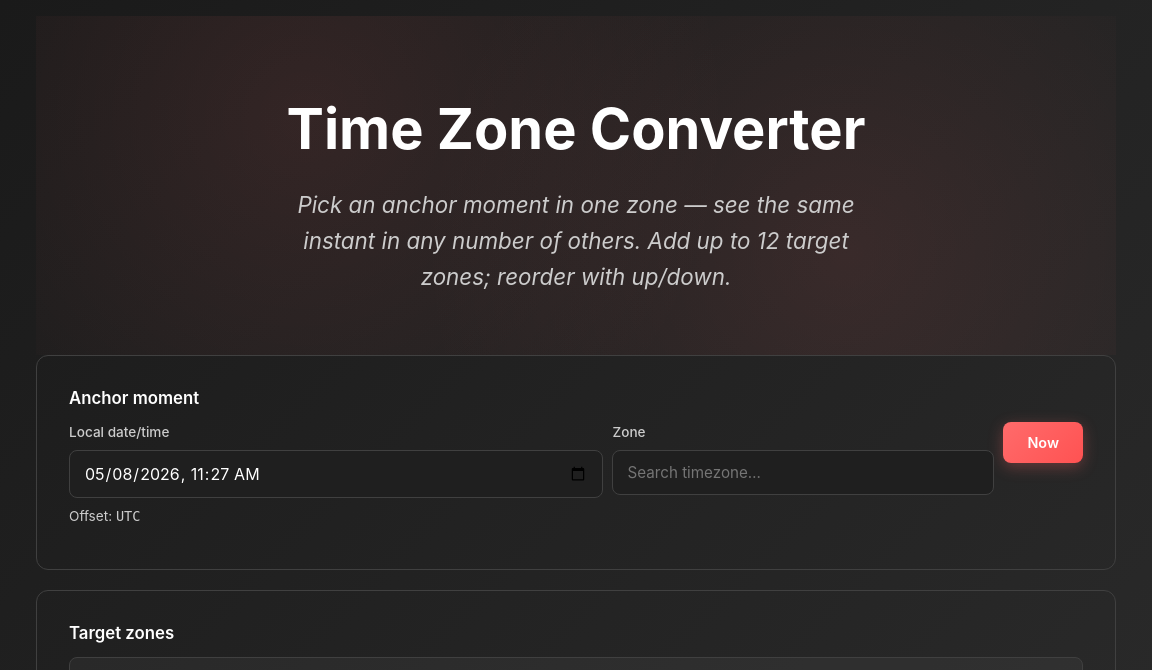
Test: <TimezoneConverter /> › Now sets the anchor input to the current moment
Clear the field labelled "Local date/time" at (336, 474), box [69,450,603,498]
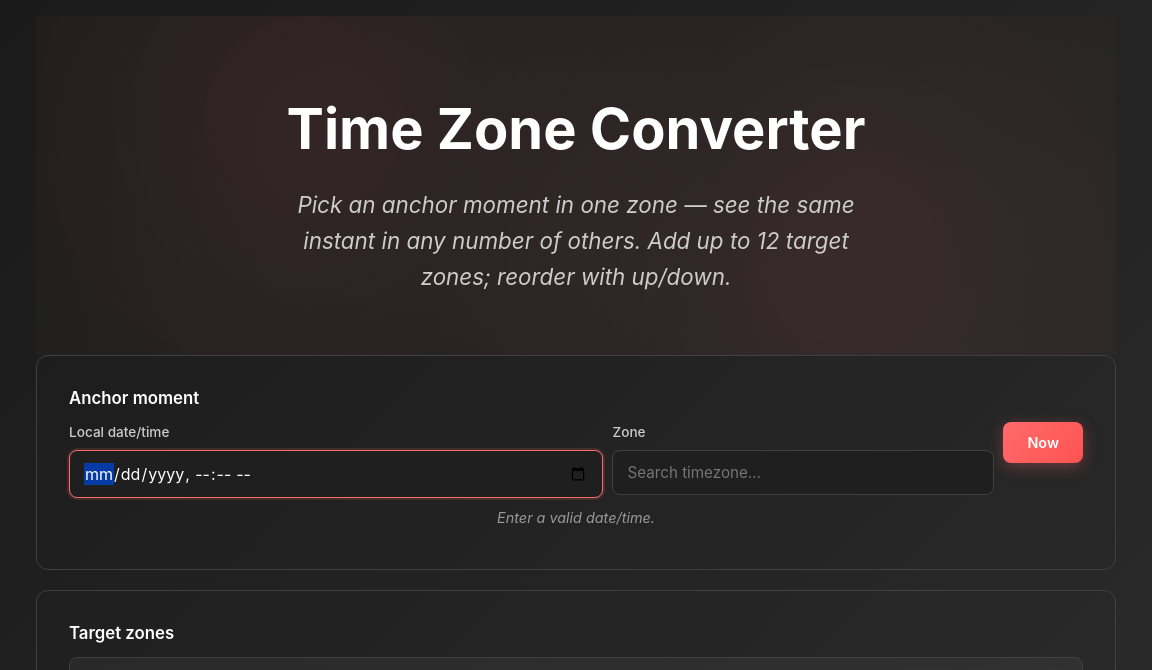
Click the button "Now" at (1043, 442), box [1003,422,1083,462]
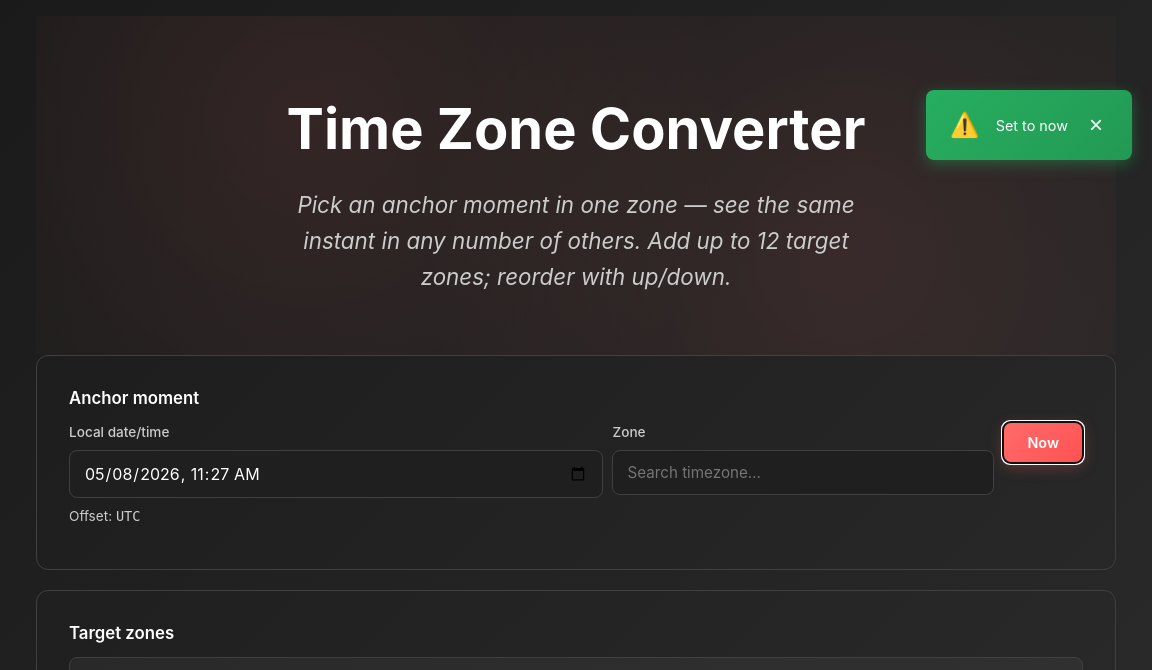
Now the field labelled "Local date/time" is not empty, box [69,450,603,498]
